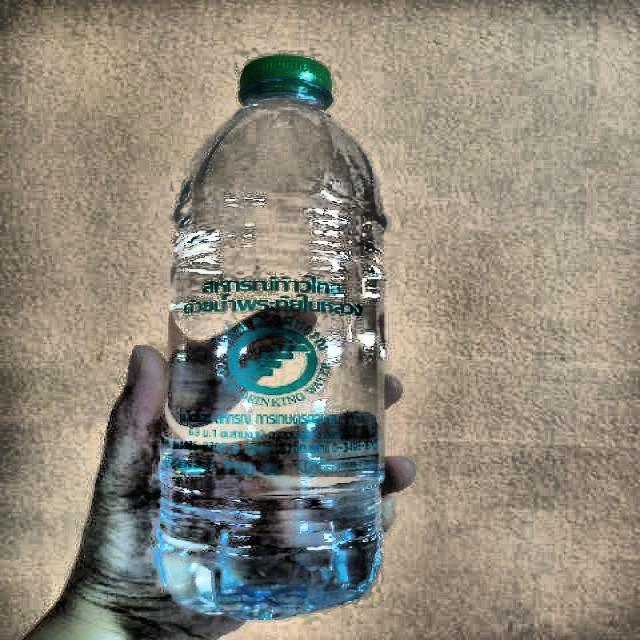Bottles: (143, 50, 395, 630)
